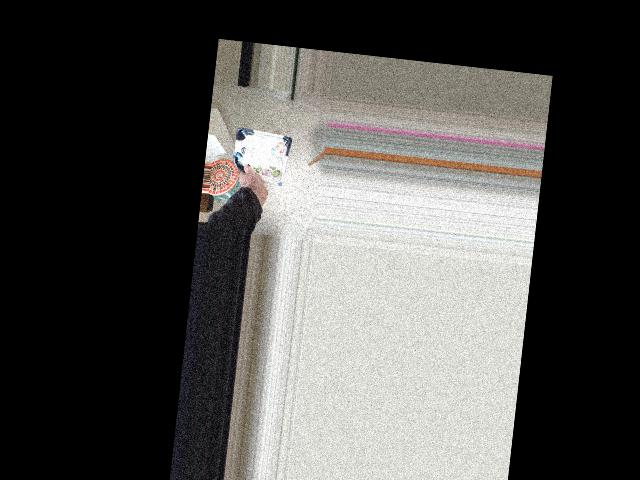cheese: (227, 138, 289, 205)
